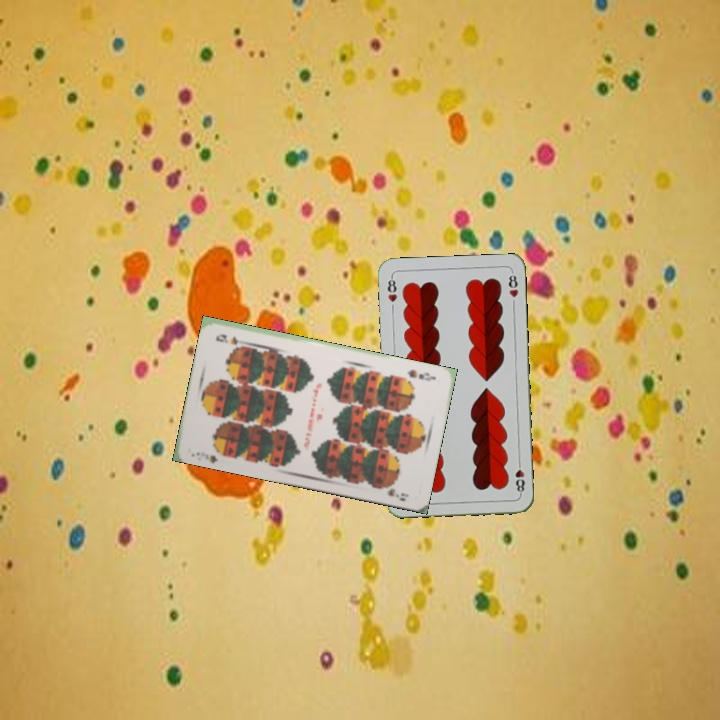H8: (511, 457, 527, 497), (384, 273, 399, 304)
S9: (403, 365, 438, 383), (192, 448, 220, 465)
